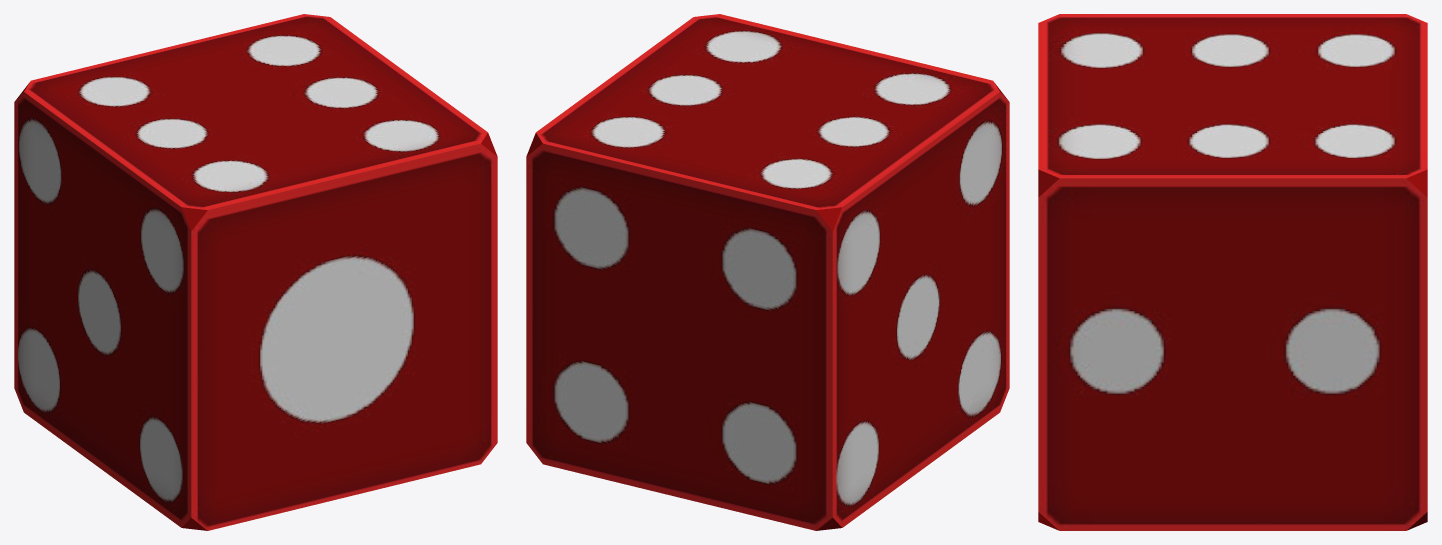
The model's file is shaizi_01.FBX.
The picture shows the model from 3 angles, left to right: view 1: azimuth 30°, elevation 25°; view 2: azimuth 150°, elevation 25°; view 3: azimuth 270°, elevation 25°; orthographic projection. The views are drawn at different scales.
Parts seen in each view (by area): view 1: shaizi_01; view 2: shaizi_01; view 3: shaizi_01.
Part boxes in pixels (x1,y1,x2,y2): shaizi_01: (14, 14, 497, 530); shaizi_01: (526, 14, 1009, 530); shaizi_01: (1038, 14, 1427, 530).
Size of the model in its own units: 1.1 by 1.1 by 1.1.
